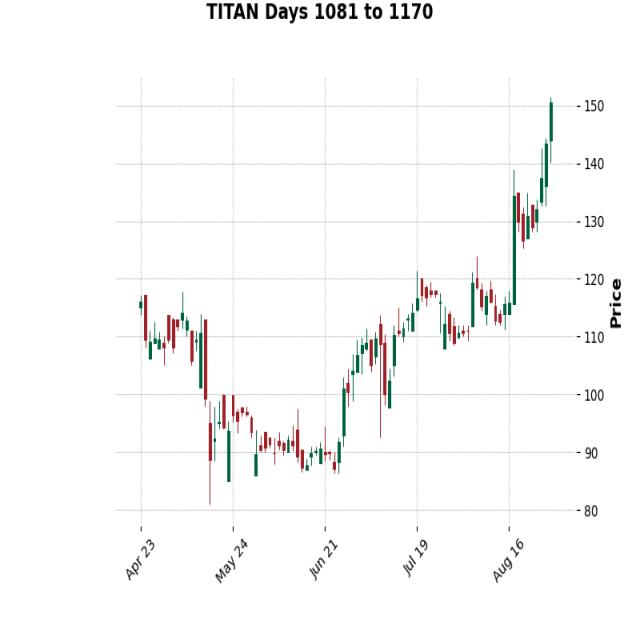Triple Bottom Reversal: (187, 377, 362, 538)
